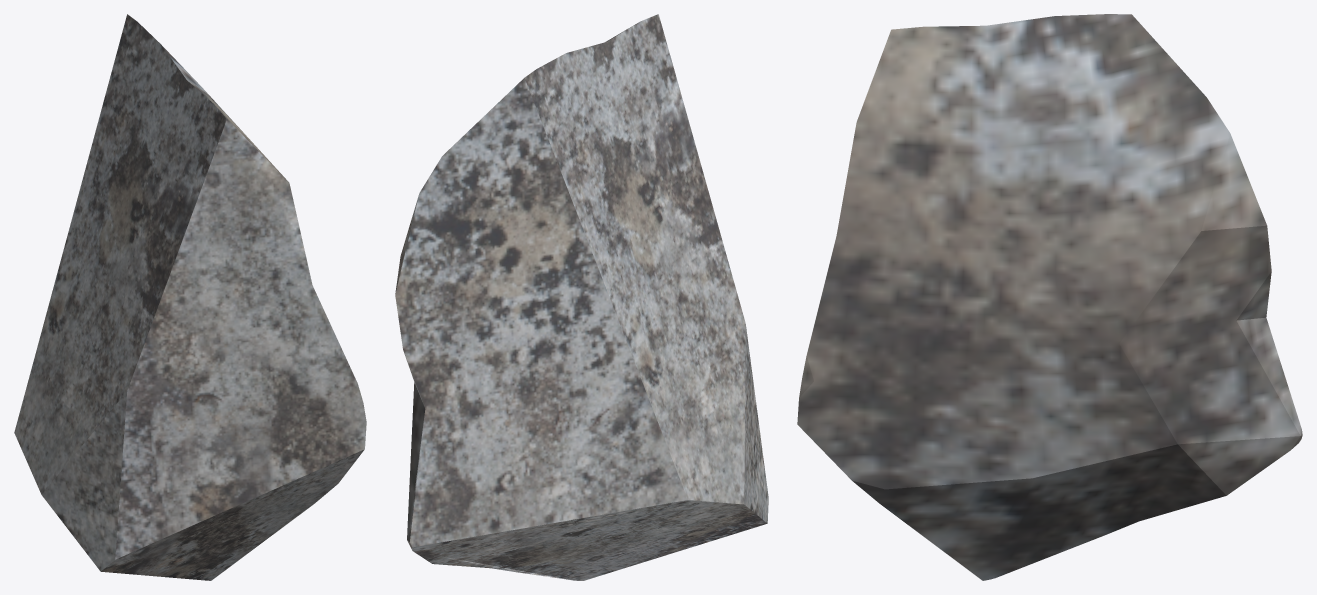
The model's file is Asteroid_Medium_001_02_006_03_002.fbx.
The picture shows the model from 3 angles, left to right: view 1: azimuth 30°, elevation 25°; view 2: azimuth 150°, elevation 25°; view 3: azimuth 270°, elevation 25°; orthographic projection. The views are drawn at different scales.
Parts seen in each view (by area): view 1: Asteroid_Medium_001_02_006_03_002; view 2: Asteroid_Medium_001_02_006_03_002; view 3: Asteroid_Medium_001_02_006_03_002.
Boxes of the visible parts, x1,y1,x2,y2 form: Asteroid_Medium_001_02_006_03_002: (14, 14, 366, 580); Asteroid_Medium_001_02_006_03_002: (395, 14, 768, 580); Asteroid_Medium_001_02_006_03_002: (797, 14, 1302, 580).
Size of the model in its own units: 7.27 by 15.05 by 12.33.
